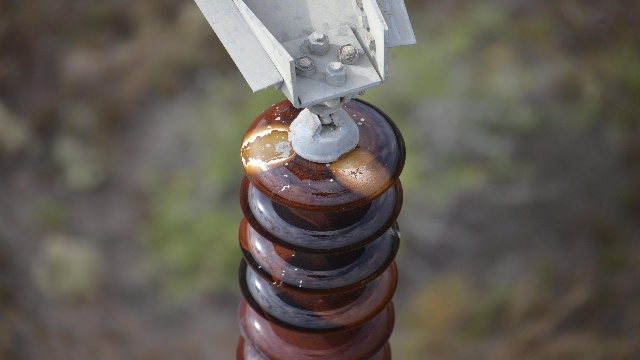insulator_unspecified: (233, 99, 405, 359)
pollution_flashover_local: (331, 145, 393, 200), (239, 122, 296, 172)
